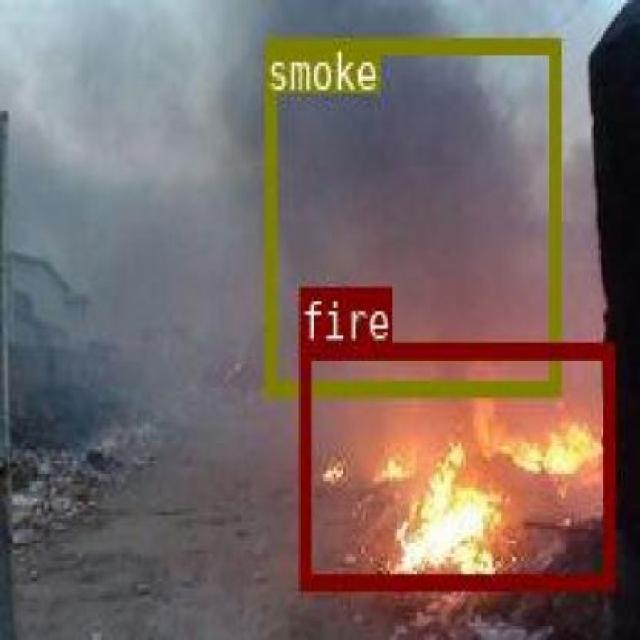Fire: (298, 340, 612, 588)
Smoke: (262, 36, 558, 393)
